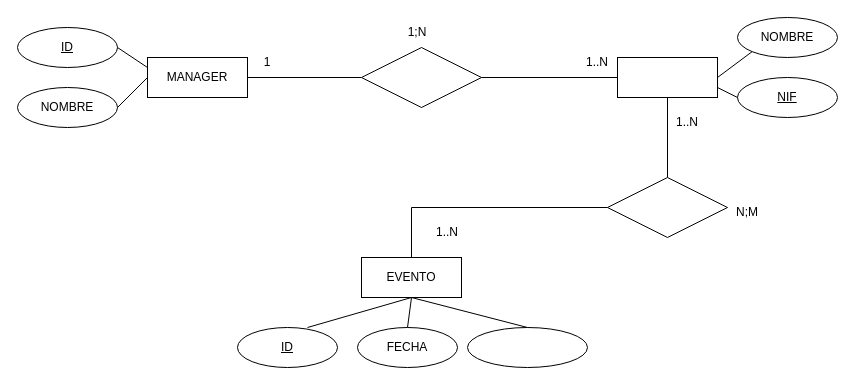
Image size: 855x385. Some labels were removed from this diagram. The centre of each missing label's shape, as x and y in pixels:
"ARTISTA" belongs at point (667, 77).
"NRO_ASISTENTES" belongs at point (527, 347).
"PARTICIPA" belongs at point (667, 207).
"REPRESENTA" belongs at point (421, 77).
